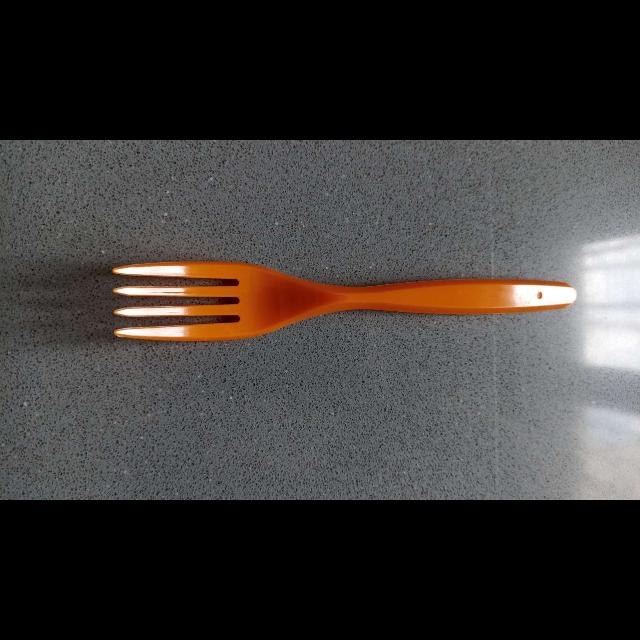plastic_cultery: (112, 258, 580, 342)
